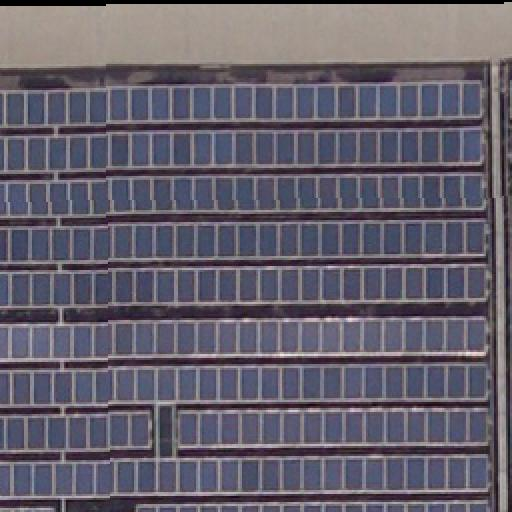solar-panel: (0, 74, 495, 512)
